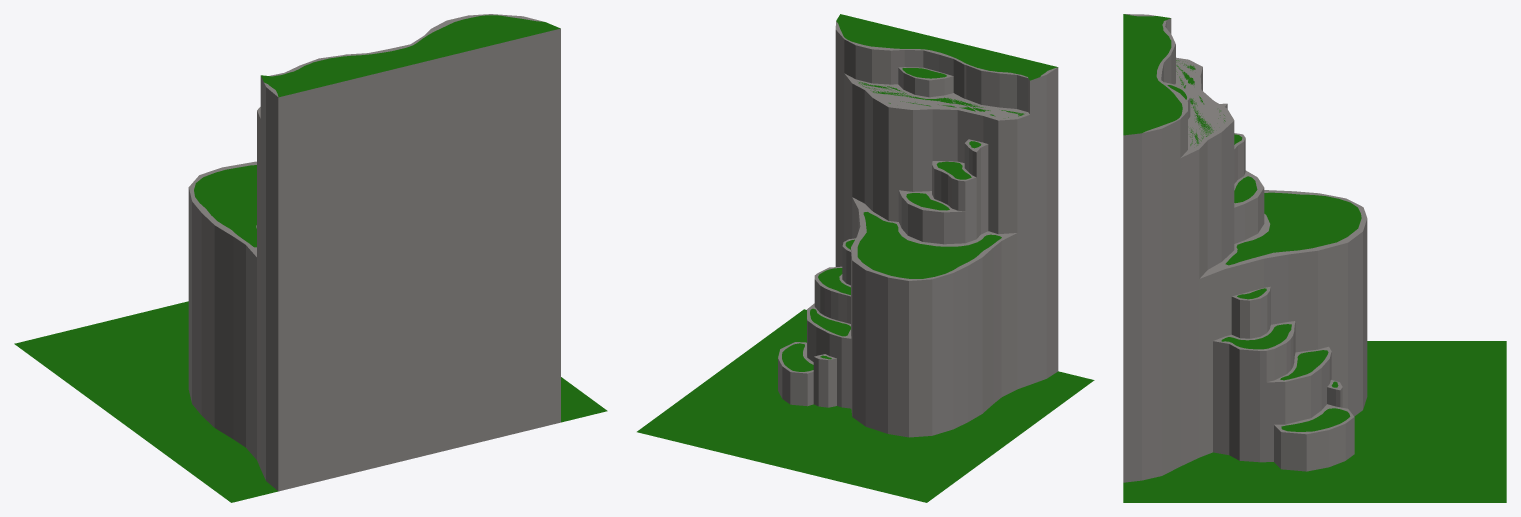
File: MountainStairEdge.fbx
3 views of the same model, side by side, from view 1: azimuth 30°, elevation 25°; view 2: azimuth 150°, elevation 25°; view 3: azimuth 270°, elevation 25° (orthographic). The views are drawn at different scales.
Visible parts, largest first — view 1: Plane.015; view 2: Plane.015; view 3: Plane.015.
Part boxes in pixels (x1,y1,x2,y2): Plane.015: (14,14,607,502); Plane.015: (637,14,1094,502); Plane.015: (1123,14,1506,502).
Size of the model in its own units: 100 by 100 by 100.
